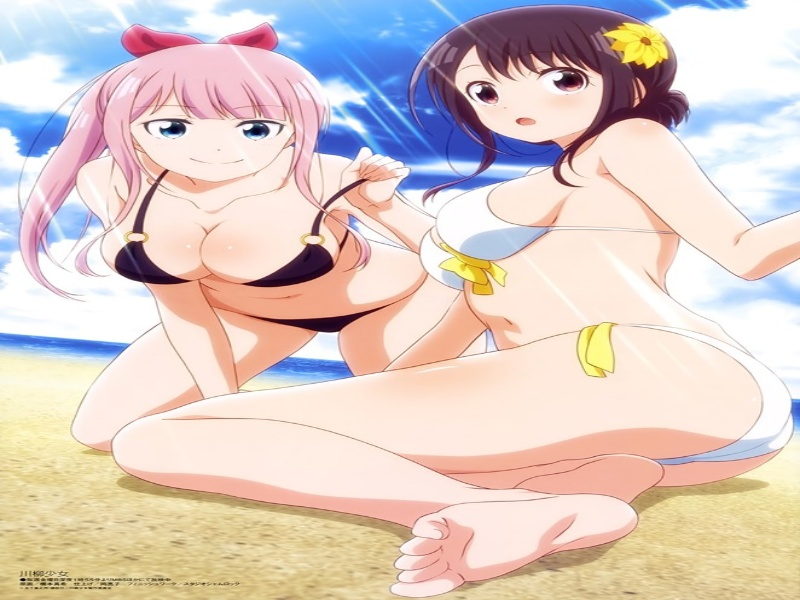person: (414, 8, 695, 160), (102, 34, 335, 189)
swimsuit: (405, 179, 557, 291), (112, 225, 355, 289)
